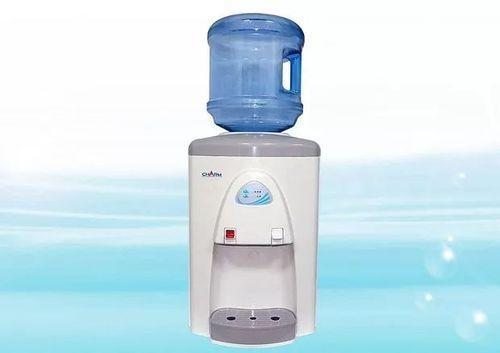Dispenser: (187, 12, 320, 347)
